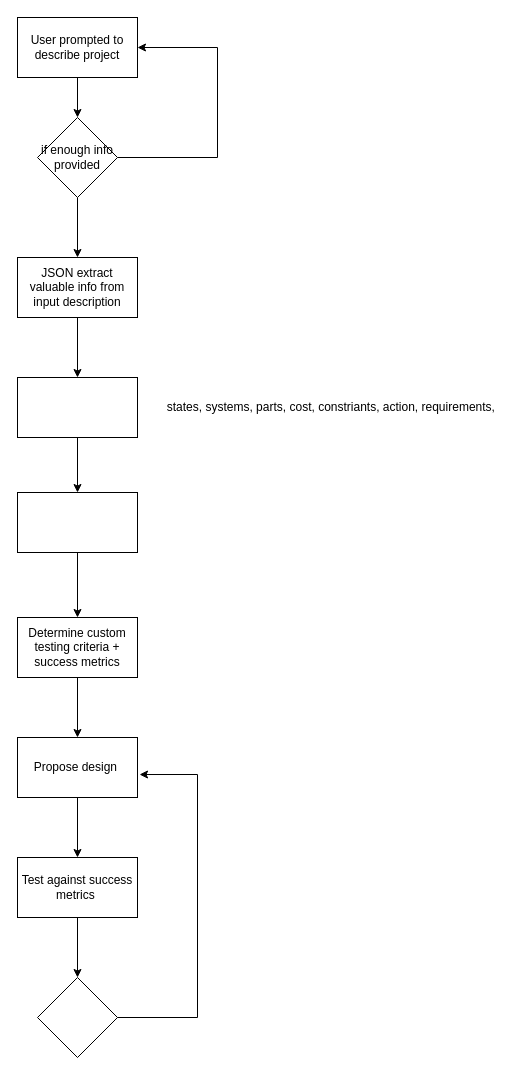
Image size: 525x1075. Some labels were removed from this diagram. The centre of each missing label's shape, as x and y in pixels:
"if KPI hit" belongs at pixel 77 1017.
"LLM creates SysML V2 script of diagram" belongs at pixel 77 407.
"LLM identifies interateable components" belongs at pixel 77 522.
